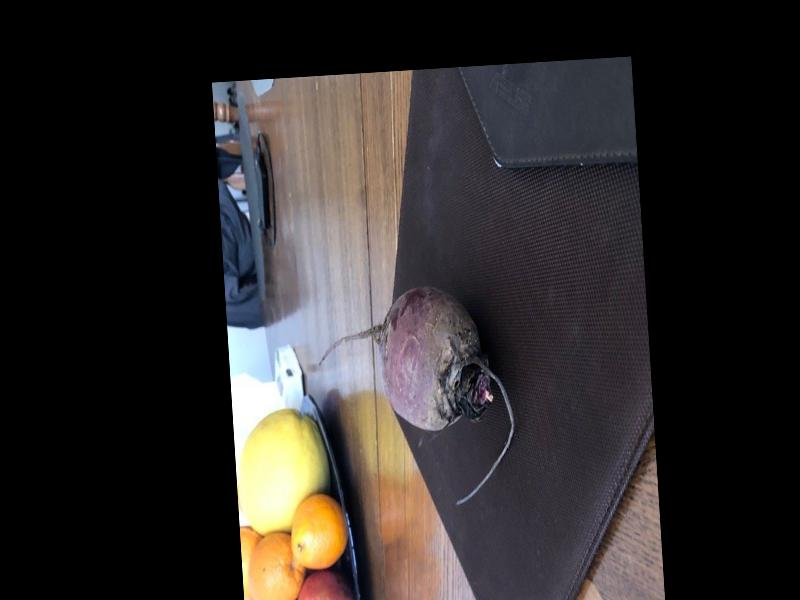Beet: (313, 281, 519, 513)
